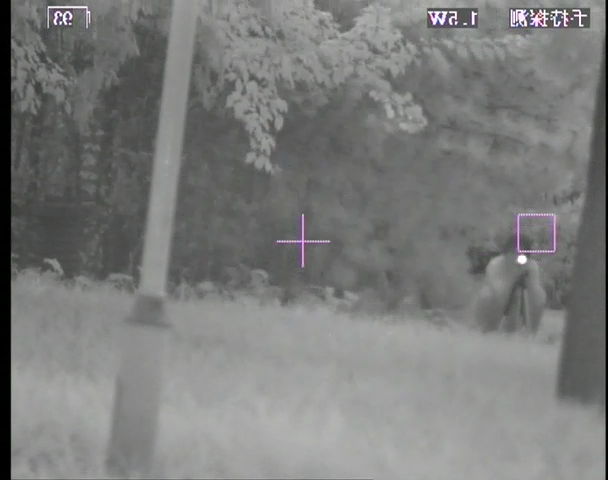my: (516, 252, 530, 266)
